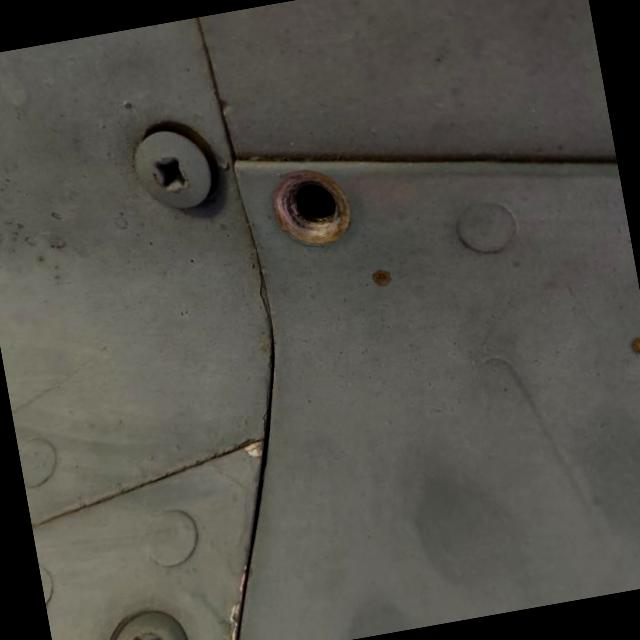missing-head: (232, 112, 403, 287)
